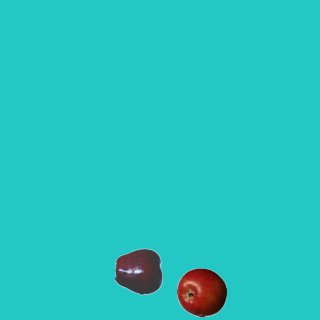Apple Braeburn: (176, 267, 226, 317)
Apple Red Delicious: (114, 246, 164, 296)
